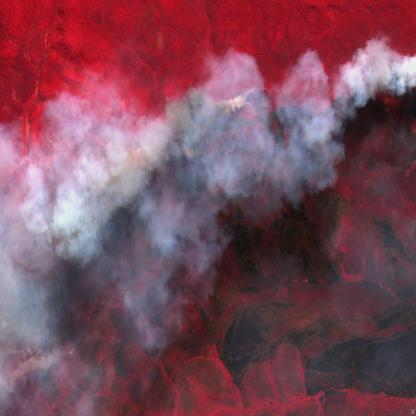fire: (0, 51, 416, 390)
